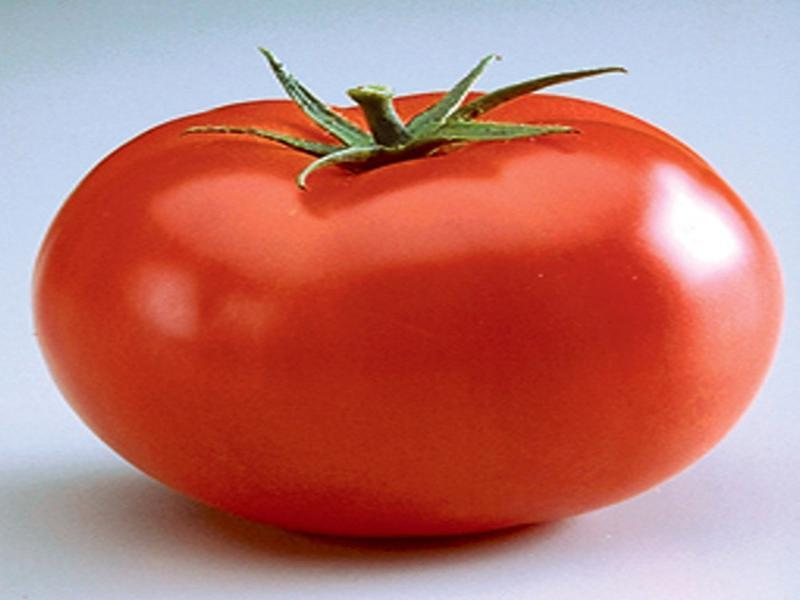full_tomato: (22, 36, 800, 576)
